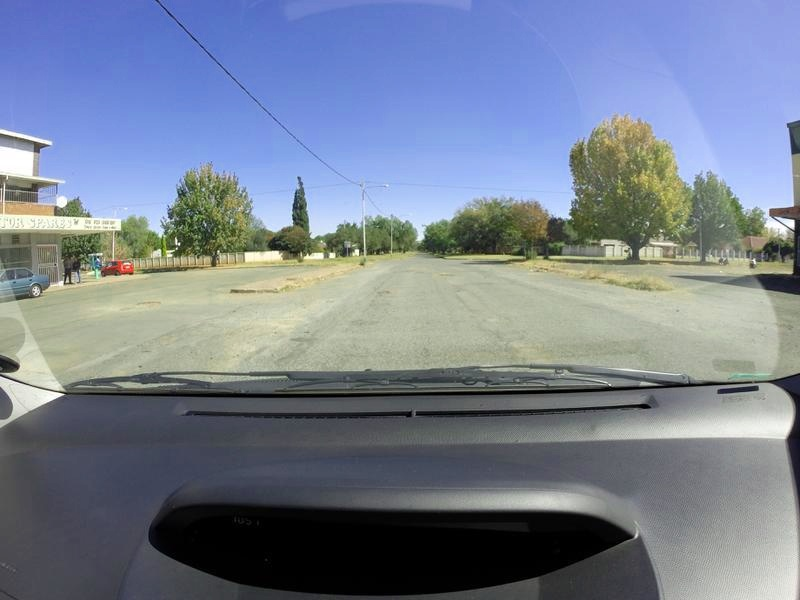pothole: (125, 293, 169, 315), (444, 266, 466, 279)
